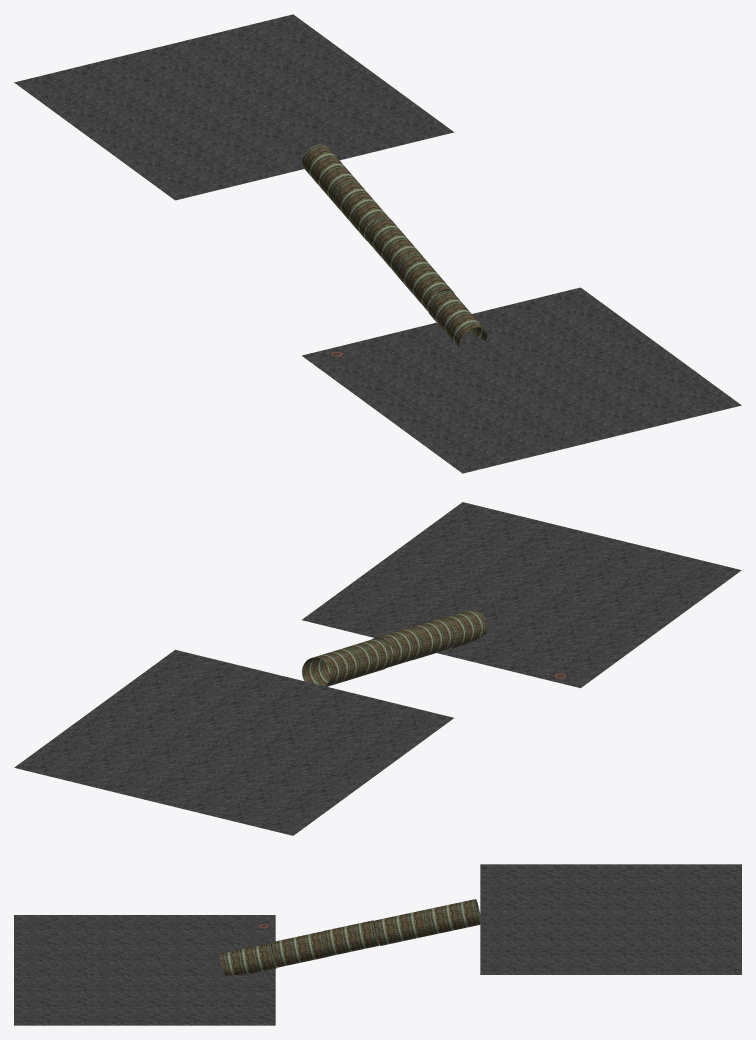
Rendered from lltest2.glb.
The picture shows the model from 3 angles, top to bottom: view 1: azimuth 30°, elevation 25°; view 2: azimuth 150°, elevation 25°; view 3: azimuth 270°, elevation 25°; orthographic projection. The views are drawn at different scales.
Parts seen in each view (by area): view 1: Plane, Plane.001, Cylinder.004, Cylinder.003, Cylinder.001, Cylinder.002, Cylinder; view 2: Plane, Plane.001, Cylinder, Cylinder.002, Cylinder.001, Cylinder.003, Cylinder.004; view 3: Plane, Plane.001, Cylinder, Cylinder.002, Cylinder.001, Cylinder.003, Cylinder.004.
Boxes of the visible parts, x1,y1,x2,y2 form: Plane: (14,14,453,200); Plane.001: (302,287,741,473); Cylinder.004: (428,290,487,347); Cylinder.003: (396,253,454,311); Cylinder.001: (333,180,388,240); Cylinder.002: (365,216,422,274); Cylinder: (302,144,357,203); Plane: (14,649,453,835); Plane.001: (302,502,741,688); Cylinder: (302,648,361,686); Cylinder.002: (371,628,424,667); Cylinder.001: (345,638,392,678); Cylinder.003: (409,618,455,659); Cylinder.004: (441,609,487,651); Plane: (480,864,741,974); Plane.001: (14,915,275,1025); Cylinder: (425,899,480,935); Cylinder.002: (322,920,379,956); Cylinder.001: (374,909,429,945); Cylinder.003: (272,931,328,967); Cylinder.004: (220,943,276,975).
Bounding box in the file's own units: 200 × 65.64 × 557.
Materials: 8 (8 with a texture image).
